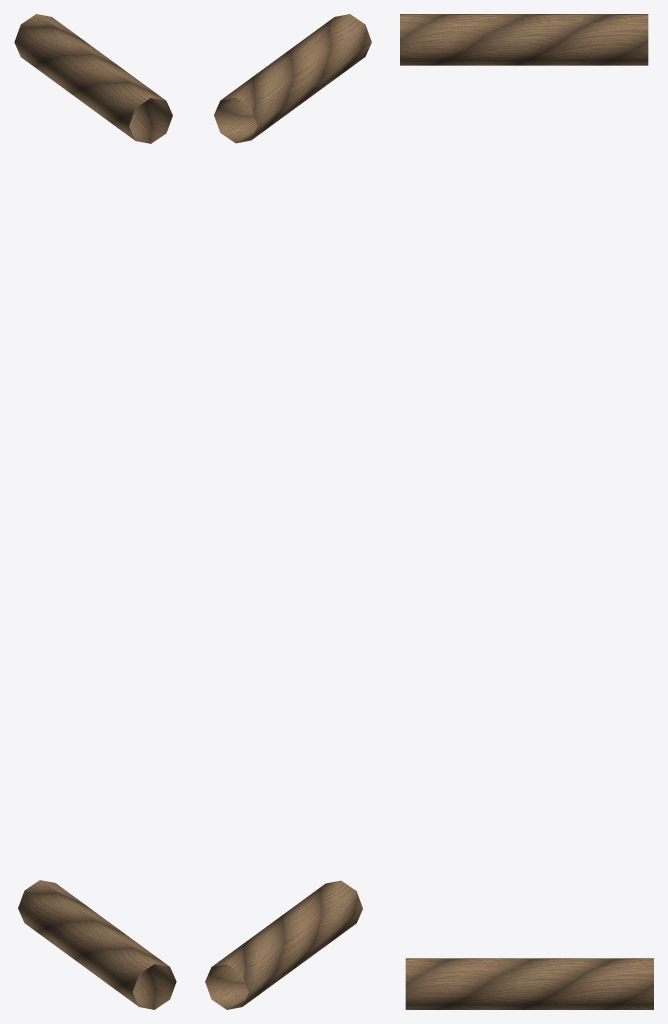
The model's file is SOGA.glb.
The picture shows the model from 3 angles, left to right: view 1: azimuth 30°, elevation 25°; view 2: azimuth 150°, elevation 25°; view 3: azimuth 270°, elevation 25°; orthographic projection. The views are drawn at different scales.
Parts seen in each view (by area): view 1: Cylinder.002, Cylinder.005; view 2: Cylinder.002, Cylinder.005; view 3: Cylinder.002, Cylinder.005.
Boxes of the visible parts, x1,y1,x2,y2 form: Cylinder.002: (18,880,176,1009); Cylinder.005: (14,14,172,143); Cylinder.002: (205,880,362,1009); Cylinder.005: (214,14,371,143); Cylinder.002: (405,958,653,1009); Cylinder.005: (400,14,648,65).
Size of the model in its own units: 0.1771 by 3.08 by 0.716.
Materials: 1 (1 with a texture image).
